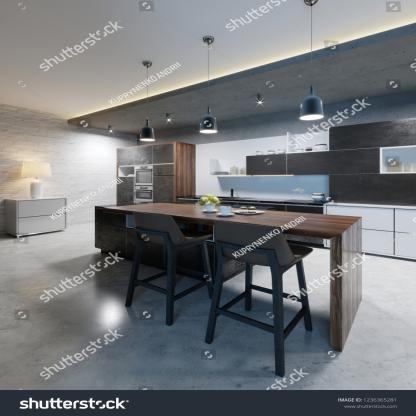chair: (204, 209, 321, 377), (123, 207, 206, 322)
light: (290, 1, 345, 139), (195, 27, 231, 145), (138, 50, 156, 150), (248, 89, 273, 108), (159, 106, 174, 127), (102, 119, 117, 137)
table: (75, 199, 369, 356), (0, 198, 68, 246)
